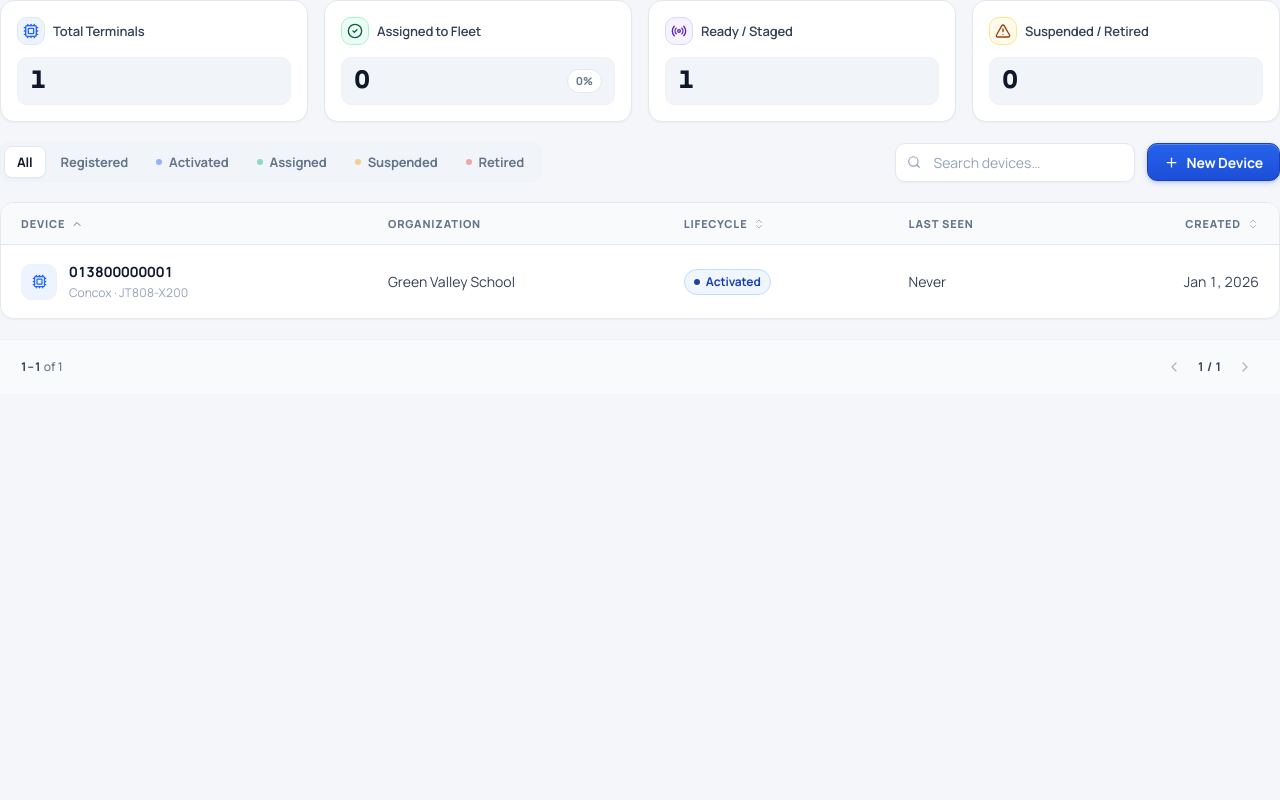
it: DevicesPage › lets support_staff (the RAAD technician role) manage lifecycle and assignment
Click the text "013800000001" at coordinates (129, 272), box [69, 261, 188, 283]
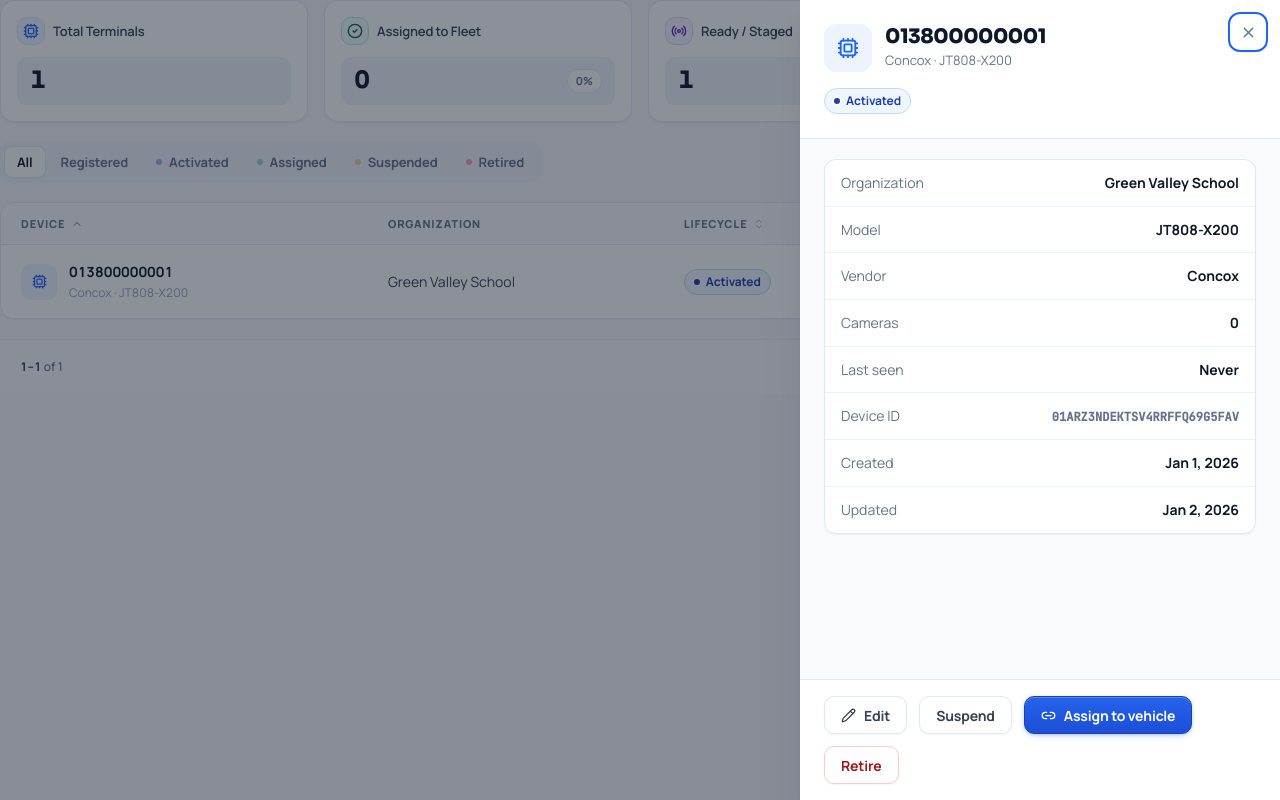
Now the button "Suspend" is shown, box [919, 696, 1012, 734]
Now the button "Assign to vehicle" is shown, box [1024, 696, 1192, 734]
